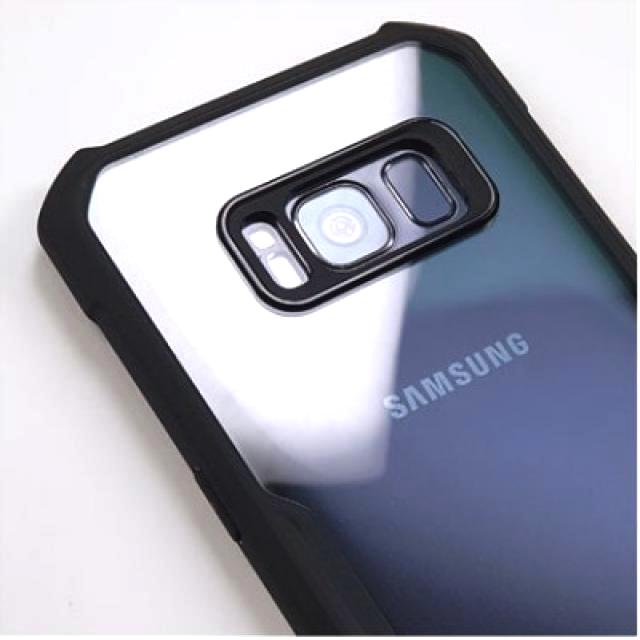lens: (216, 116, 489, 309)
phone: (36, 22, 638, 639)
